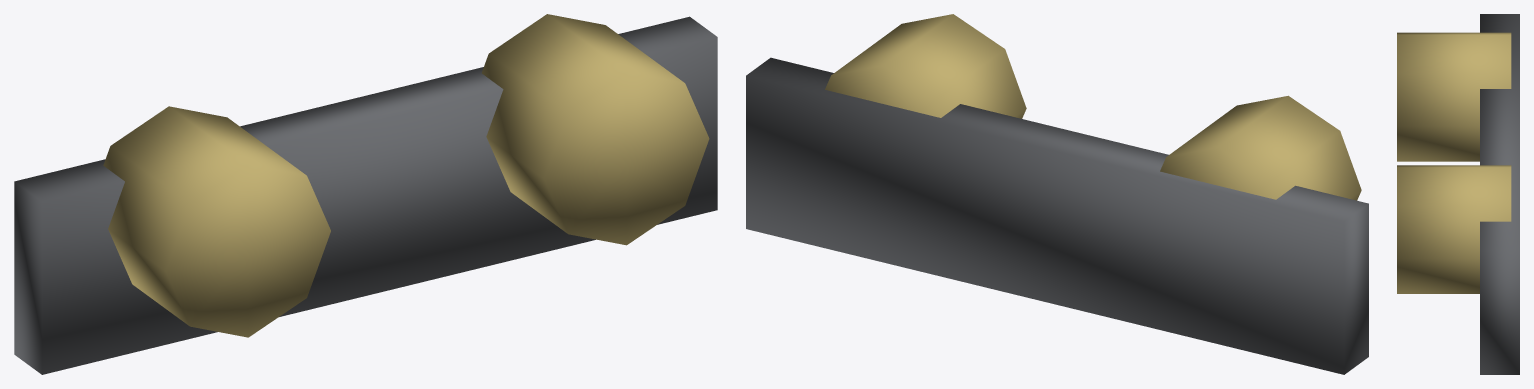
File: emergency_light_pair_04.glb
3 views of the same model, side by side, from view 1: azimuth 30°, elevation 25°; view 2: azimuth 150°, elevation 25°; view 3: azimuth 270°, elevation 25° (orthographic). The views are drawn at different scales.
Visible parts, largest first — view 1: world; view 2: world; view 3: world.
Boxes of the visible parts, x1,y1,x2,y2 form: world: (14,14,717,374); world: (746,14,1368,374); world: (1397,14,1519,374).
Size of the model in its own units: 0.49 by 0.15 by 0.1075.
